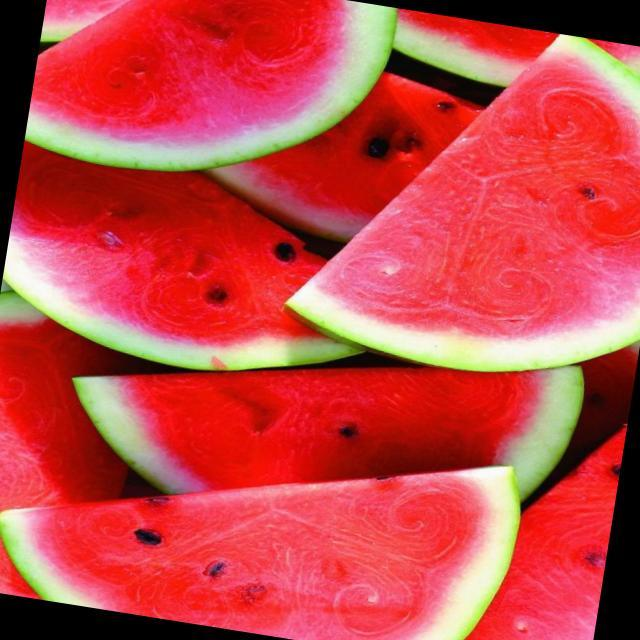WATERMELON: (281, 0, 640, 398), (62, 291, 590, 554), (0, 388, 523, 640), (0, 122, 394, 399), (23, 0, 394, 202), (221, 32, 498, 249), (0, 287, 146, 609), (445, 405, 627, 640), (387, 8, 640, 116), (40, 0, 157, 57)
